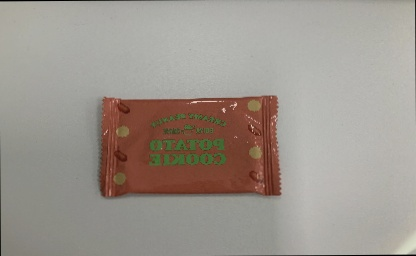pota: (96, 92, 285, 201)
